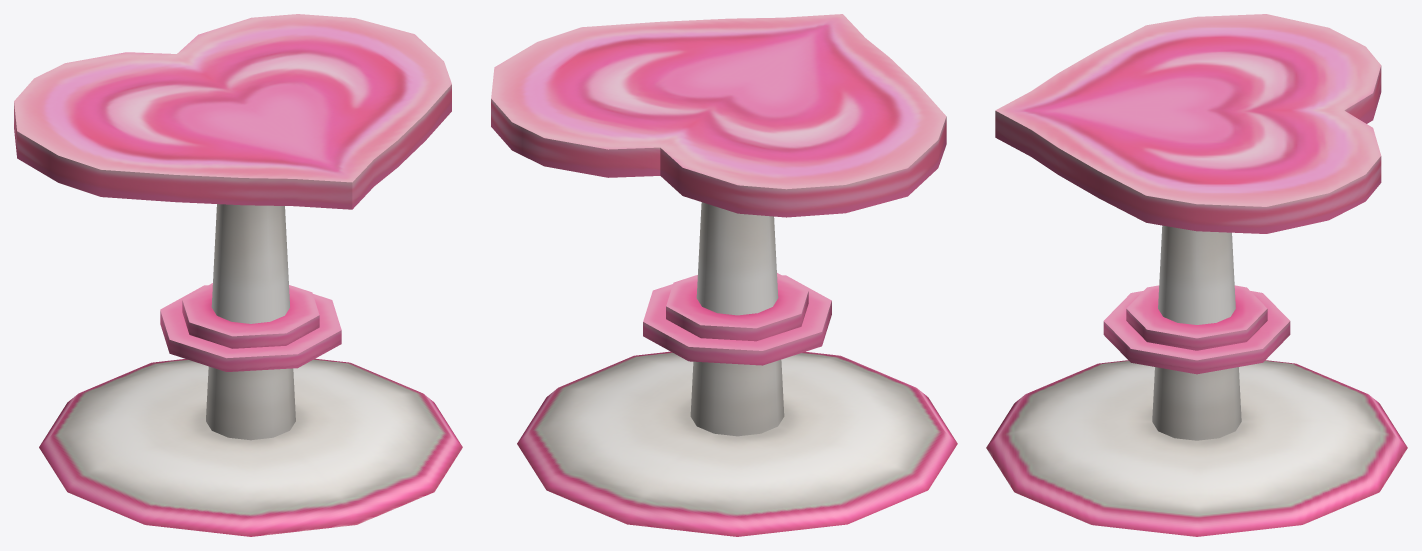
File: GirlyMiniTable_HD.fbx
The picture shows the model from 3 angles, left to right: view 1: azimuth 30°, elevation 25°; view 2: azimuth 150°, elevation 25°; view 3: azimuth 270°, elevation 25°; orthographic projection. The views are drawn at different scales.
Visible parts, largest first — view 1: GirlyMiniTable; view 2: GirlyMiniTable; view 3: GirlyMiniTable.
Part boxes in pixels (x1,y1,x2,y2): GirlyMiniTable: (14,14,462,536); GirlyMiniTable: (491,14,957,536); GirlyMiniTable: (986,14,1407,536).
Size of the model in its own units: 0.7476 by 0.6092 by 0.6904.
